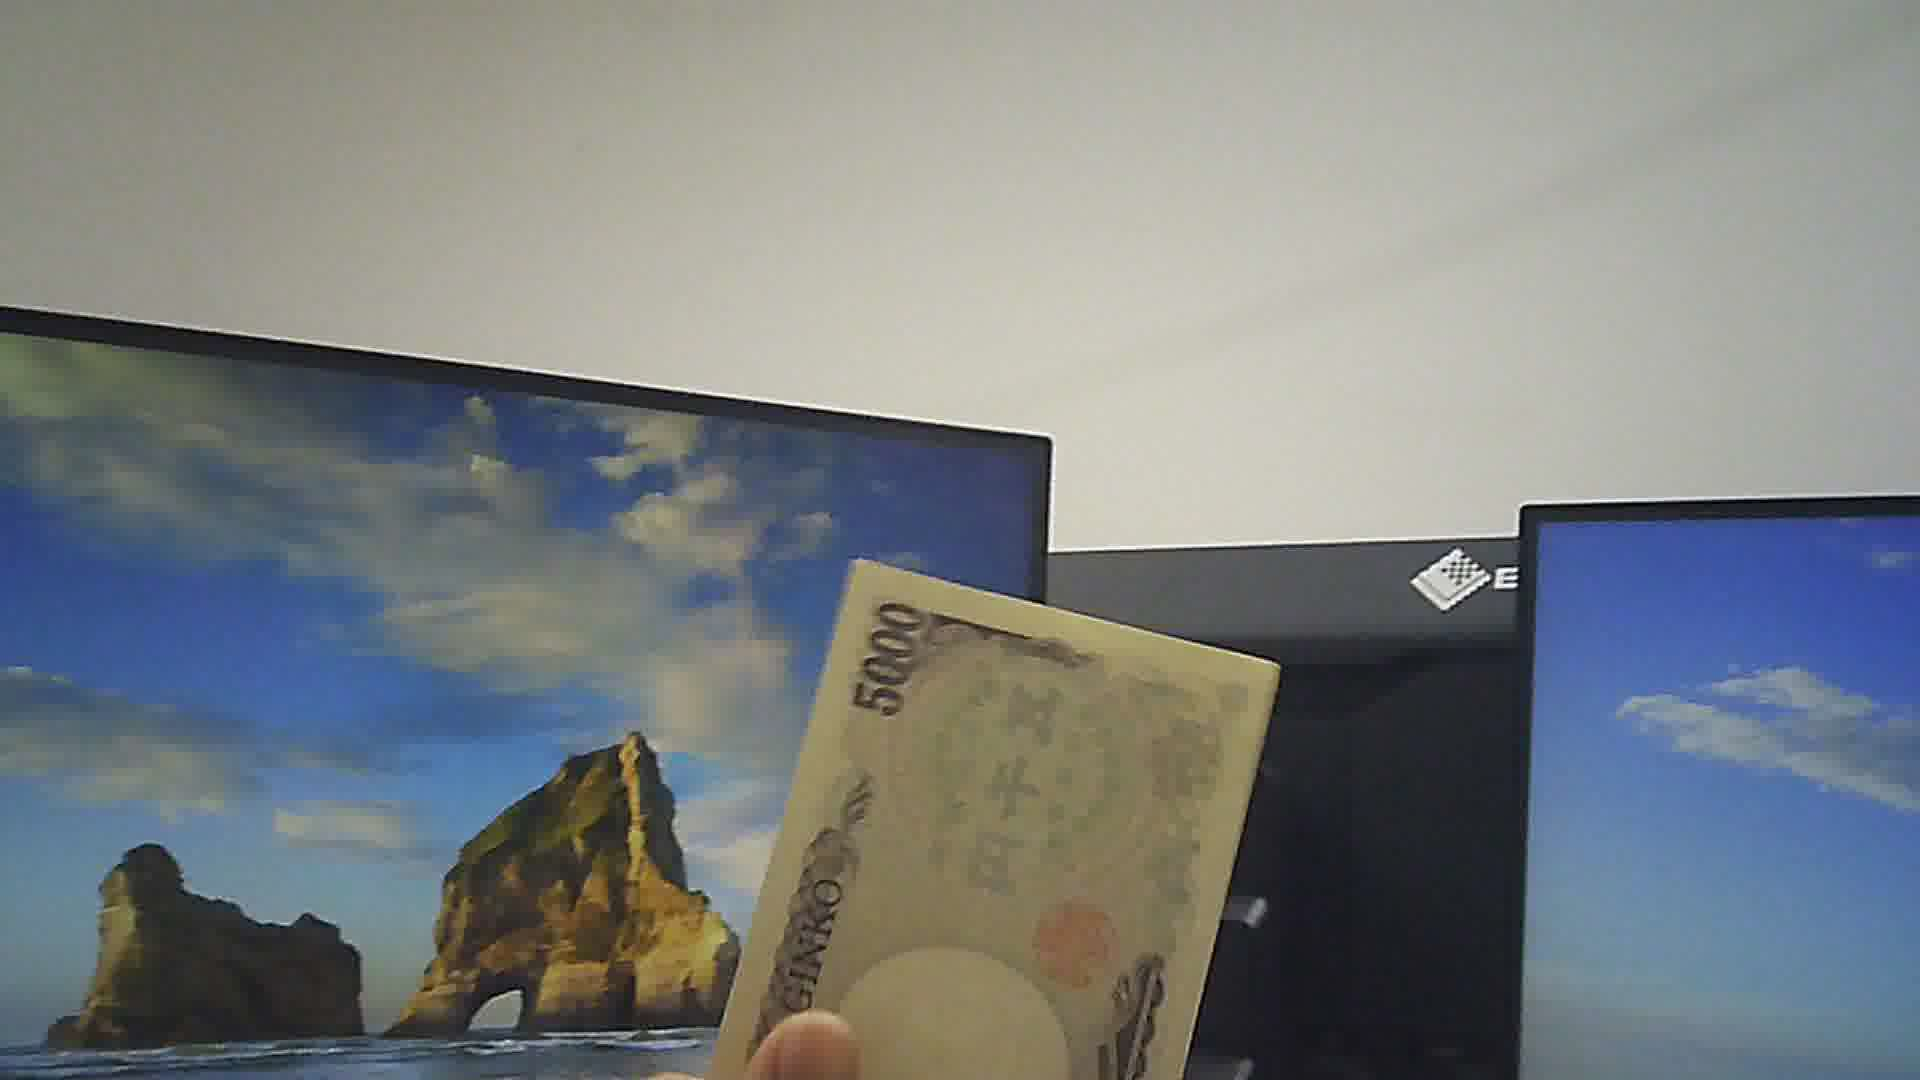5,000 Yen: (727, 550, 1284, 1077)
